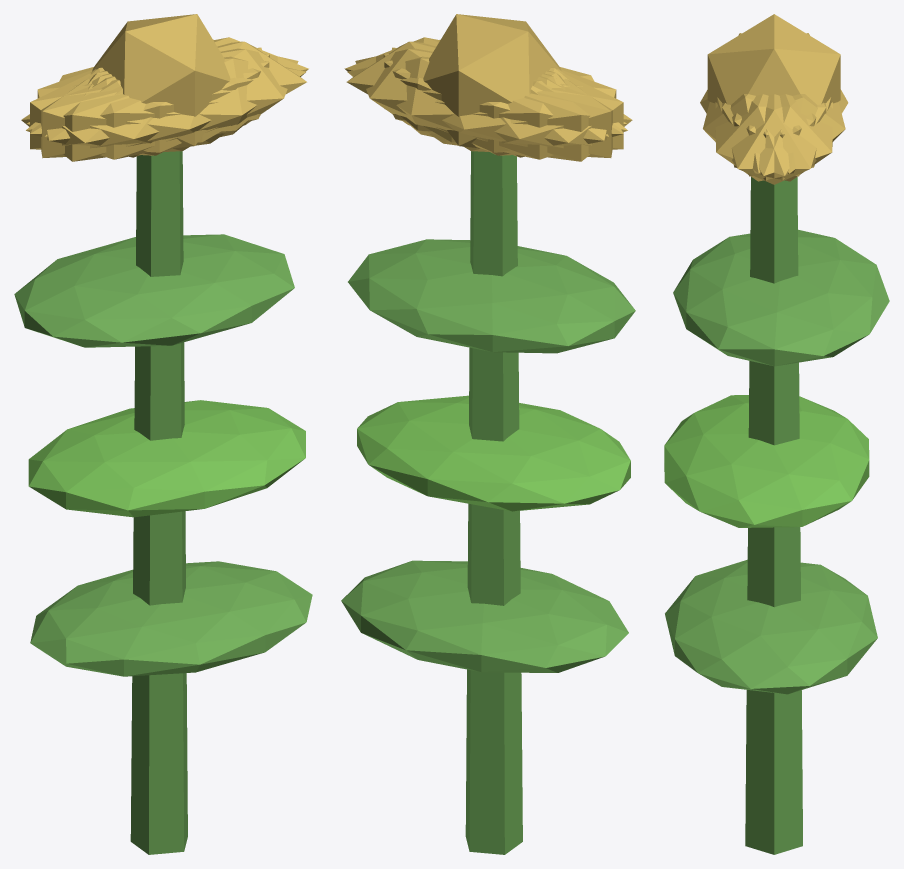
The model's file is triplaris-americana.glb.
The picture shows the model from 3 angles, left to right: view 1: azimuth 30°, elevation 25°; view 2: azimuth 150°, elevation 25°; view 3: azimuth 270°, elevation 25°; orthographic projection.
Visible parts, largest first — view 1: stem, leaf1, leaf0, leaf2, center, petal1, petal6, petal2, petal5, petal7, petal0, petal4 (+2 smaller); view 2: stem, leaf2, leaf0, leaf1, center, petal8, petal3, petal7, petal4, petal2, petal0, petal5 (+2 smaller); view 3: stem, leaf2, leaf0, leaf1, center, petal0, petal4, petal5, petal8, petal1.
Boxes of the visible parts, bbox=[...] form: stem: bbox=[130, 151, 187, 854]; leaf1: bbox=[28, 400, 305, 517]; leaf0: bbox=[30, 561, 312, 676]; leaf2: bbox=[14, 234, 294, 347]; center: bbox=[92, 14, 230, 148]; petal1: bbox=[26, 56, 305, 159]; petal6: bbox=[21, 69, 224, 161]; petal2: bbox=[41, 47, 261, 158]; petal5: bbox=[44, 48, 298, 152]; petal7: bbox=[30, 53, 269, 155]; petal0: bbox=[92, 41, 306, 142]; petal4: bbox=[27, 37, 308, 134]; stem: bbox=[465, 151, 522, 854]; leaf2: bbox=[348, 239, 635, 353]; leaf0: bbox=[341, 560, 628, 672]; leaf1: bbox=[357, 395, 630, 511]; center: bbox=[423, 14, 561, 148]; petal8: bbox=[347, 56, 627, 159]; petal3: bbox=[429, 69, 632, 161]; petal7: bbox=[392, 47, 612, 157]; petal4: bbox=[355, 48, 608, 152]; petal2: bbox=[383, 53, 623, 155]; petal0: bbox=[346, 41, 561, 142]; petal5: bbox=[344, 37, 626, 134]; stem: bbox=[745, 177, 802, 854]; leaf2: bbox=[673, 229, 889, 366]; leaf0: bbox=[665, 559, 877, 694]; leaf1: bbox=[664, 395, 869, 527]; center: bbox=[707, 14, 840, 104]; petal0: bbox=[717, 94, 831, 184]; petal4: bbox=[722, 94, 832, 181]; petal5: bbox=[715, 94, 826, 181]; petal8: bbox=[732, 94, 845, 173]; petal1: bbox=[703, 94, 816, 173].
Bounding box in the file's own units: 0.1452 × 0.4119 × 0.1038.
